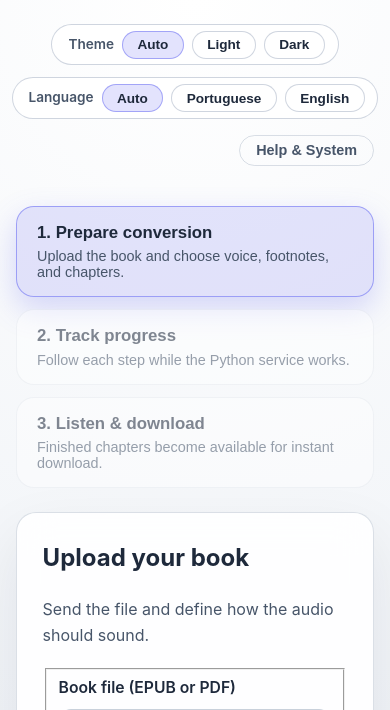
Test case: App integration › opens embedded help without backend requests or restart controls
The image size is (390, 710).
Click the button "Help & System" at [307, 150], box 239,135 -> 374,166
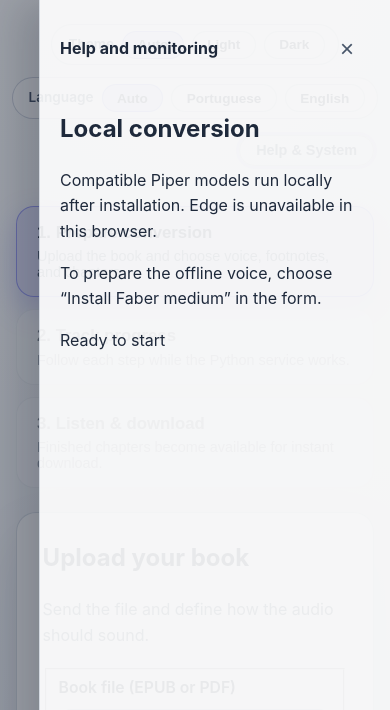
Expected: the button "Help & System" is expanded, 239,135 -> 374,166
Expected: the element "Local conversion" is shown, 60,90 -> 370,369
Expected: the text "To prepare the offline voice, choose “Install Faber medium” in the form." is shown, 60,261 -> 370,312
Click the button named "Close panel" at [347, 49], box 324,24 -> 370,74
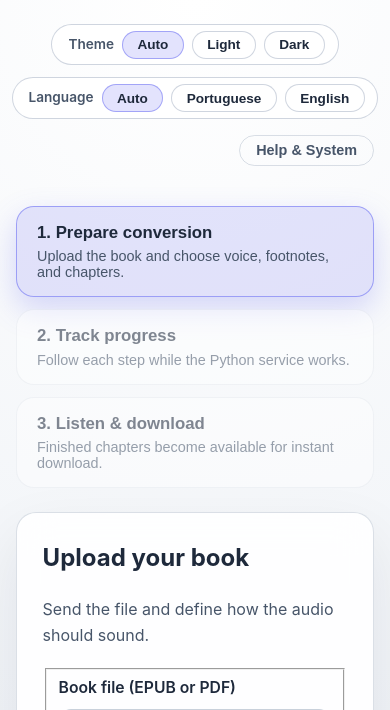
Expected: the heading "Local conversion" is gone
